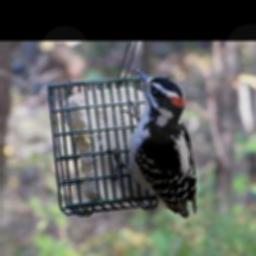Woodpecker: (108, 65, 197, 218)
